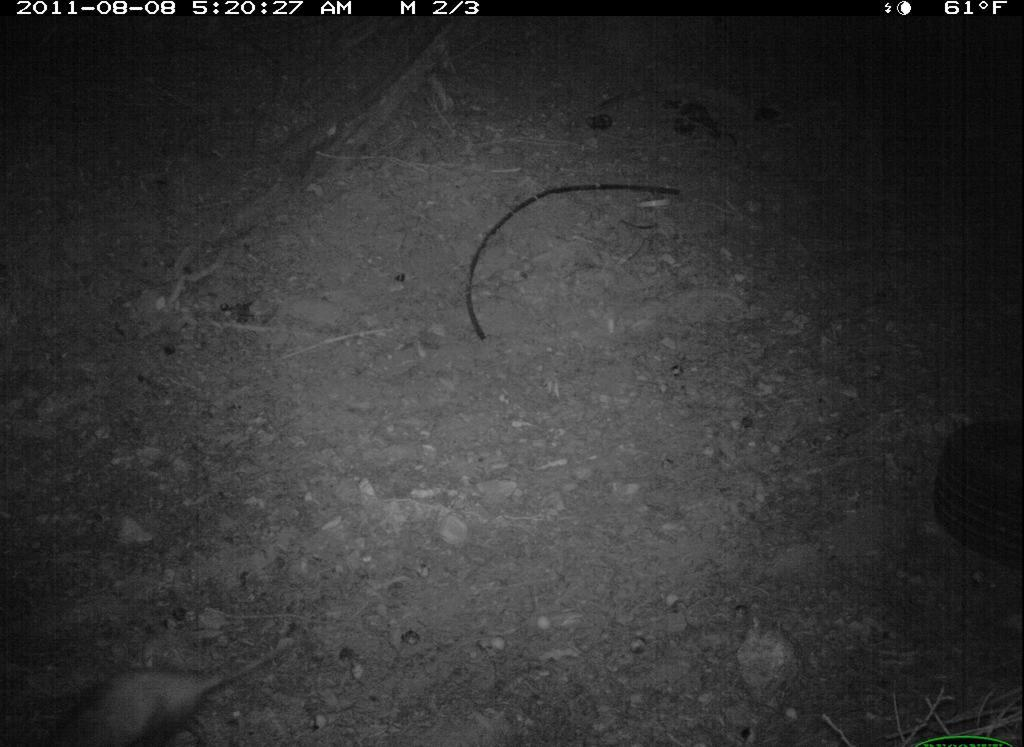opossum: (41, 634, 299, 747)
